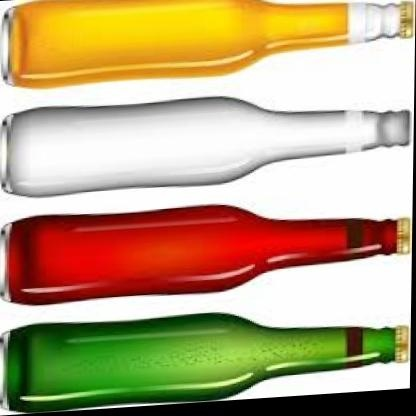trash: (1, 97, 409, 195), (3, 313, 406, 411), (0, 205, 402, 303), (2, 0, 412, 87)
